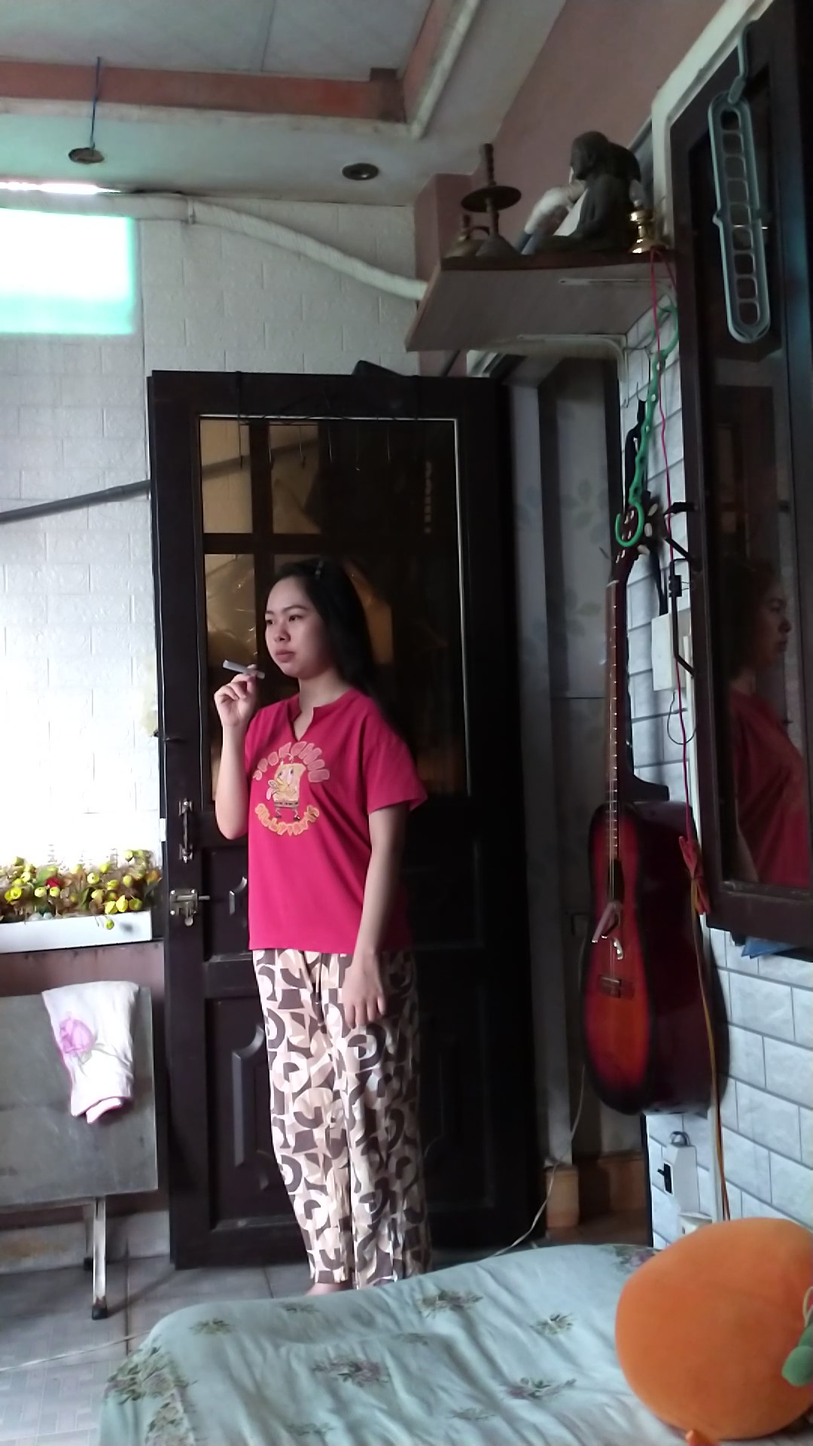cigarette: (220, 657, 266, 682)
person: (213, 533, 426, 1296)
